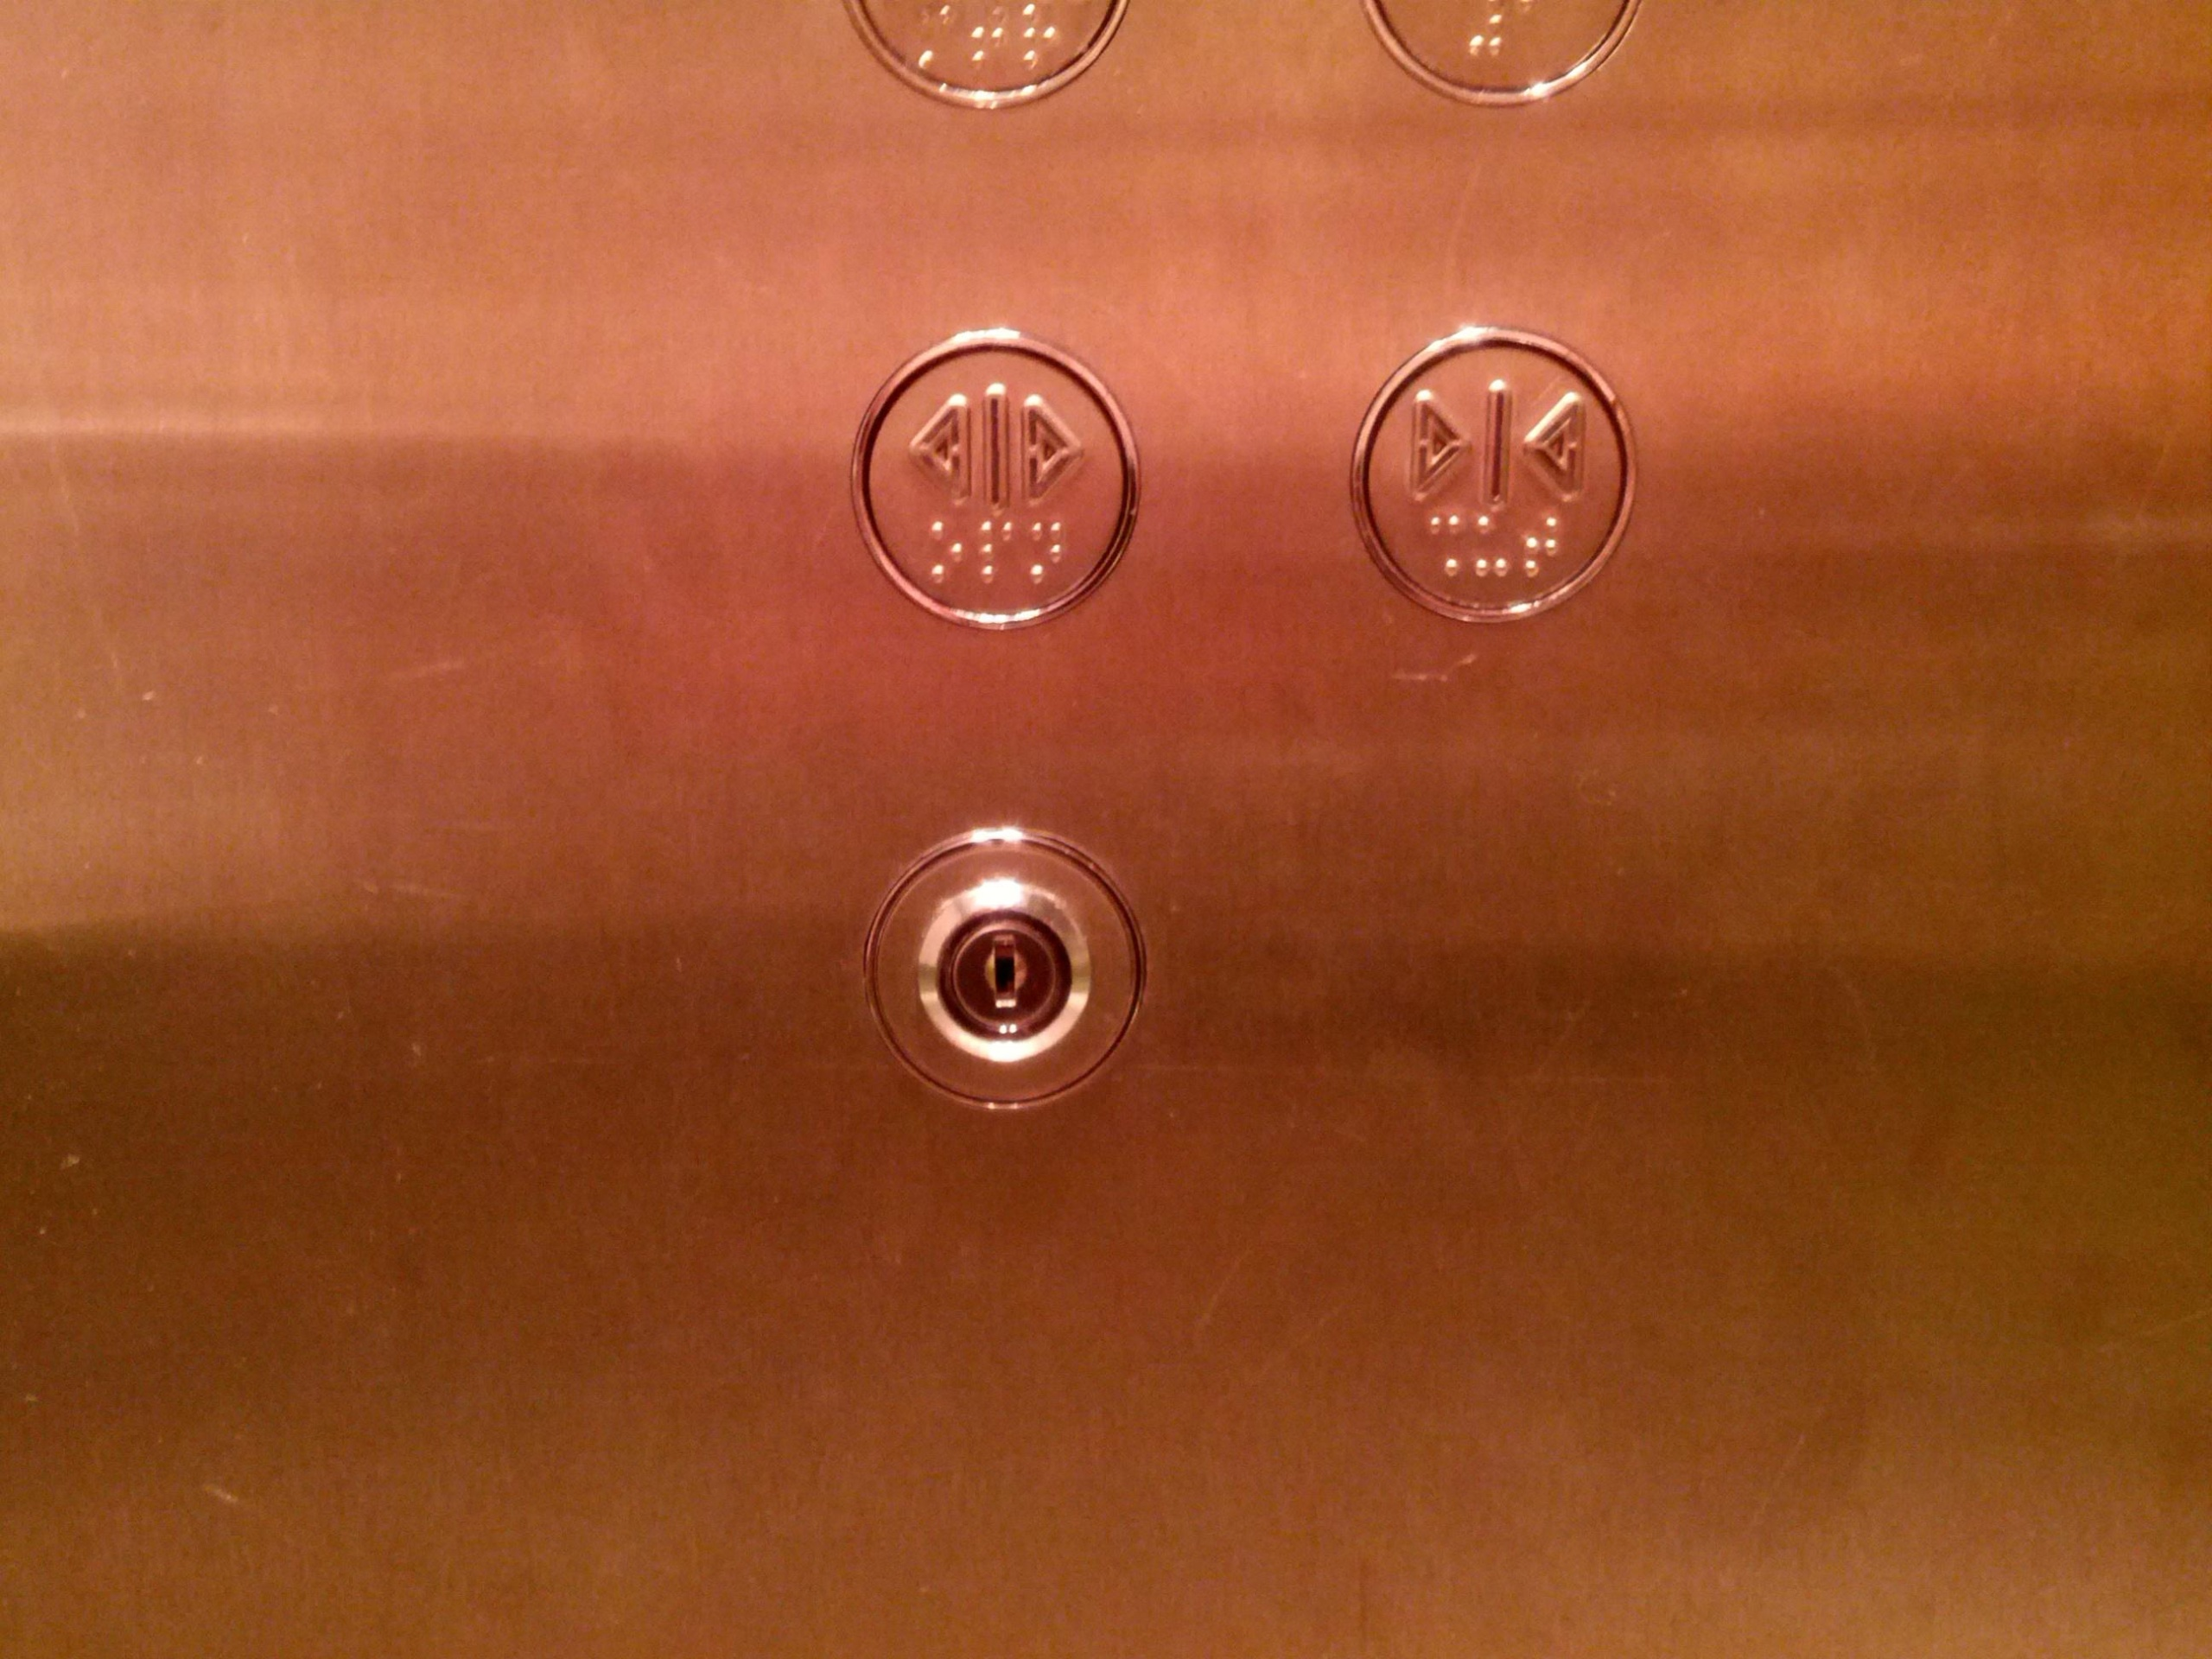bt_keyhole: (860, 814, 1151, 1124)
close: (1343, 317, 1642, 626)
open: (845, 315, 1144, 641)
